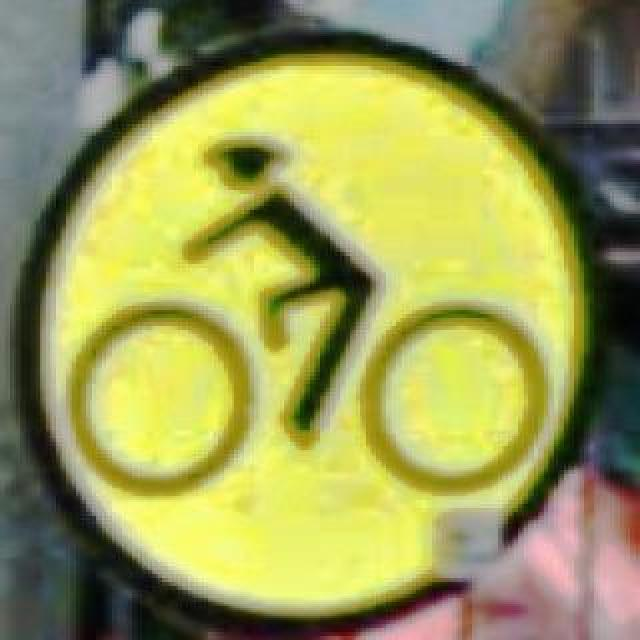bike lane: (16, 28, 596, 628)
